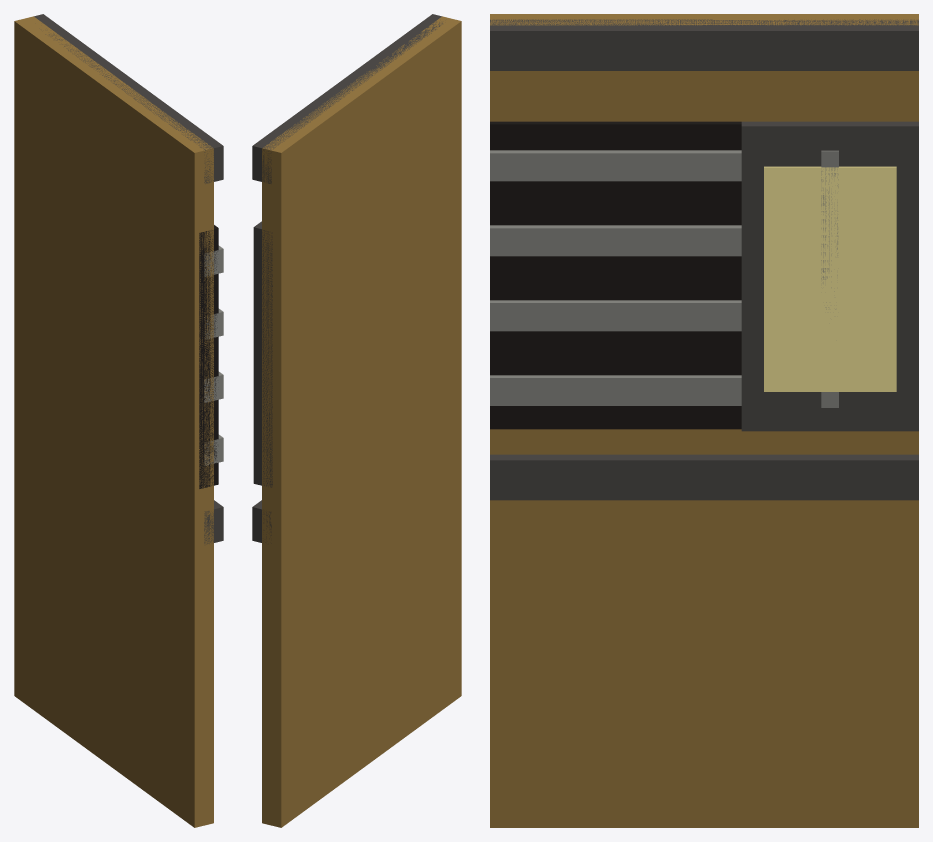
The model's file is nose_light_l.glb.
3 renders of one model, left to right at view 1: azimuth 30°, elevation 25°; view 2: azimuth 150°, elevation 25°; view 3: azimuth 270°, elevation 25°, orthographic. The views are drawn at different scales.
Parts seen in each view (by area): view 1: nose_light_l; view 2: nose_light_l; view 3: nose_light_l.
Boxes of the visible parts, left/top/right/bottom form: nose_light_l: left=14, top=14, right=223, bottom=827; nose_light_l: left=252, top=14, right=461, bottom=827; nose_light_l: left=490, top=14, right=918, bottom=827.
Bounding box in the file's own units: 0.045 × 1 × 0.484.
